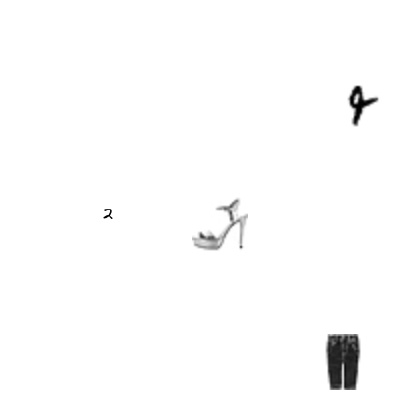2: (101, 207, 115, 221)
4: (330, 74, 386, 130)
Sandal: (192, 196, 248, 252)
Trouser: (314, 334, 370, 390)
